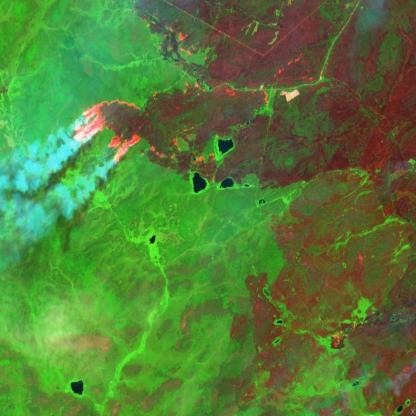fire: (150, 20, 309, 172), (66, 91, 147, 171), (324, 323, 360, 357)
